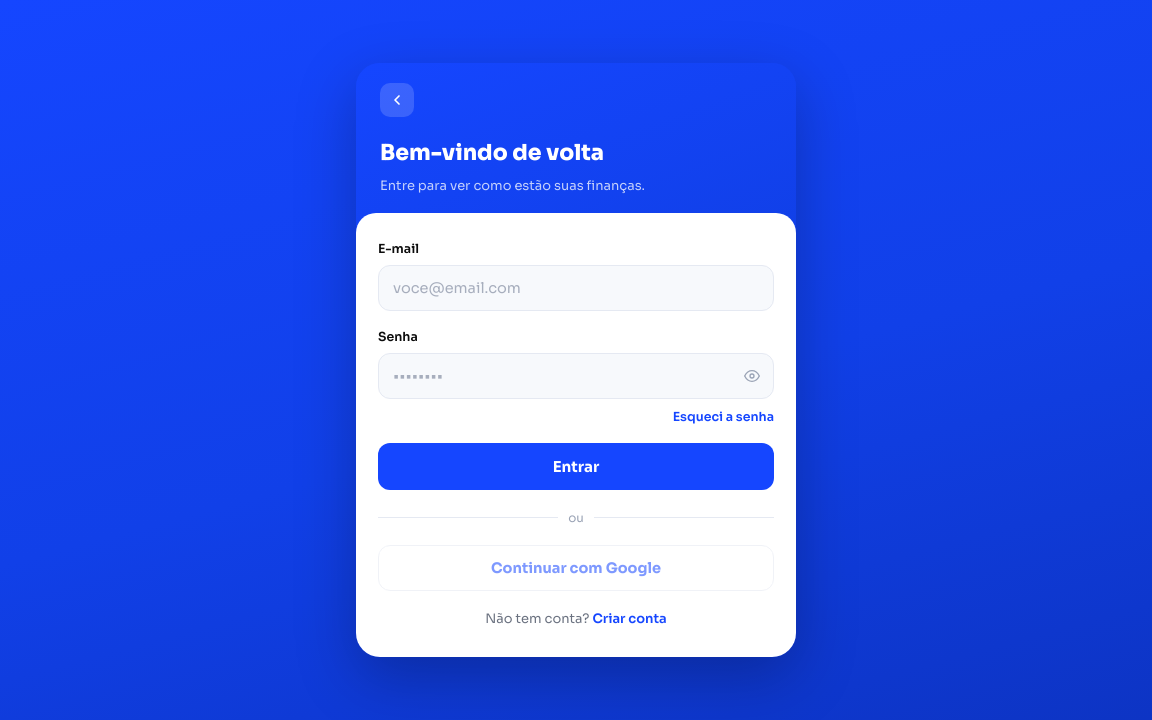
Scenario: Login — modo entrar › mostra erro de e-mail inválido
Step 1. Type "invalido" into the field labelled "E-mail" → (576, 288), box top-left (378, 264), bottom-right (774, 310)
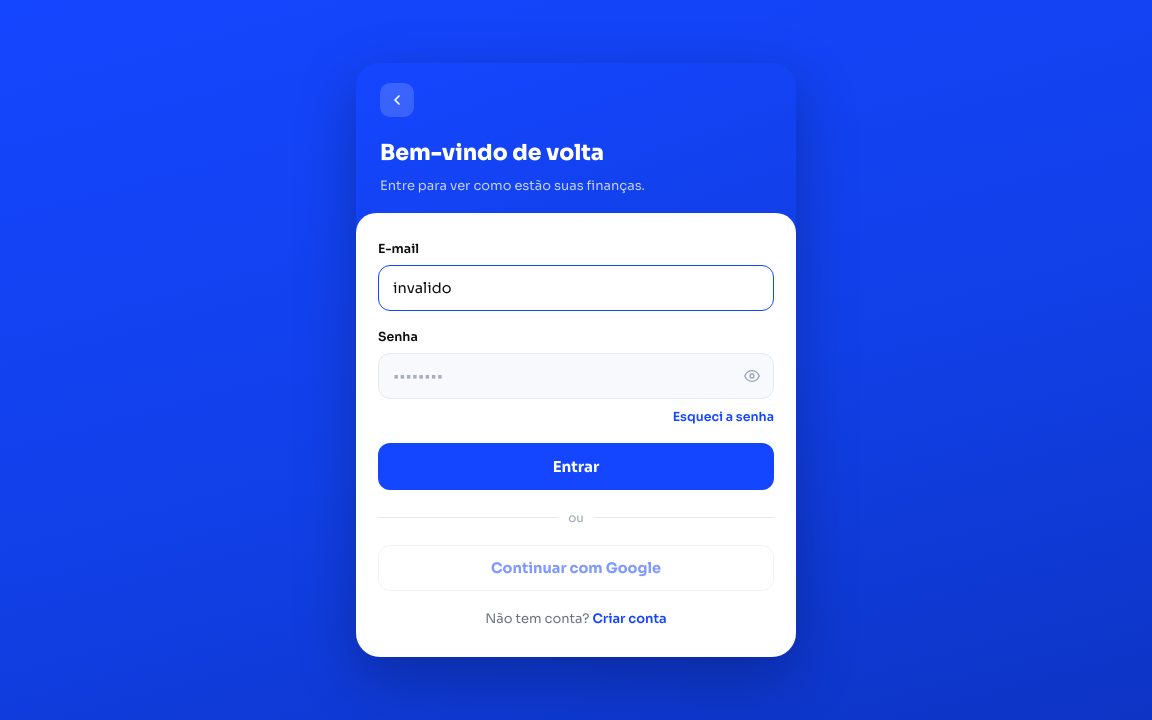
Step 2. Type "Senha123" into the password field labelled "Senha" → (576, 376), box top-left (378, 352), bottom-right (774, 398)
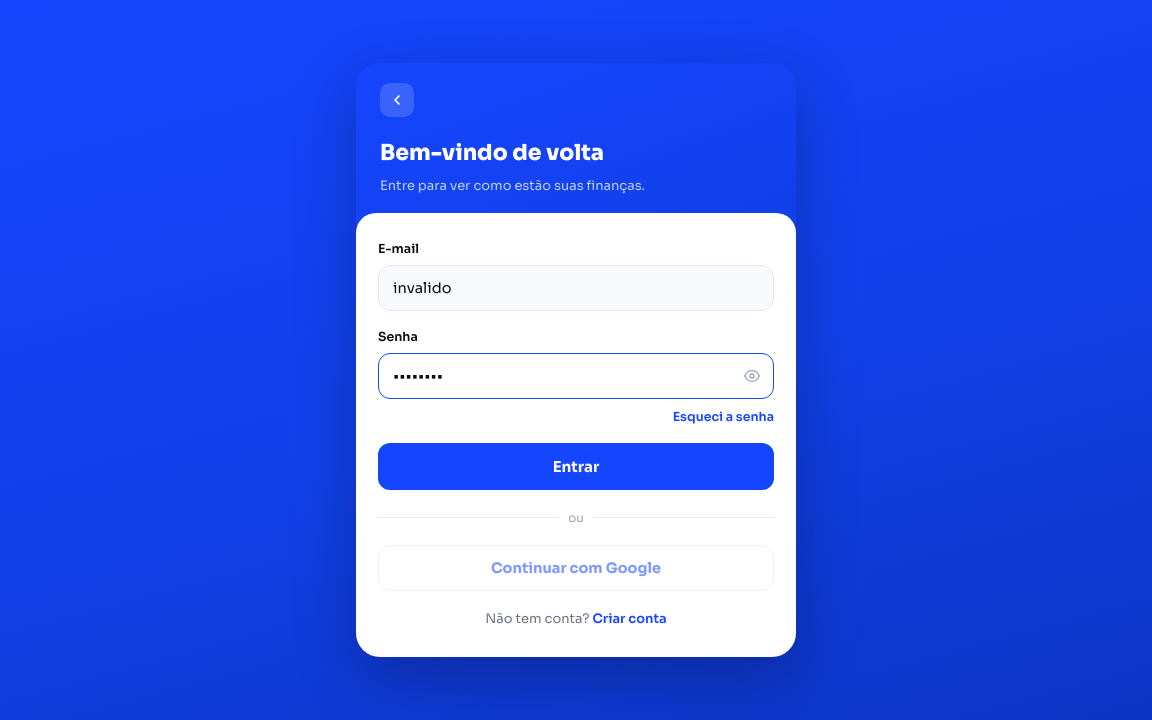
Step 3. Click the button "Entrar" → (576, 466), box top-left (378, 442), bottom-right (774, 490)
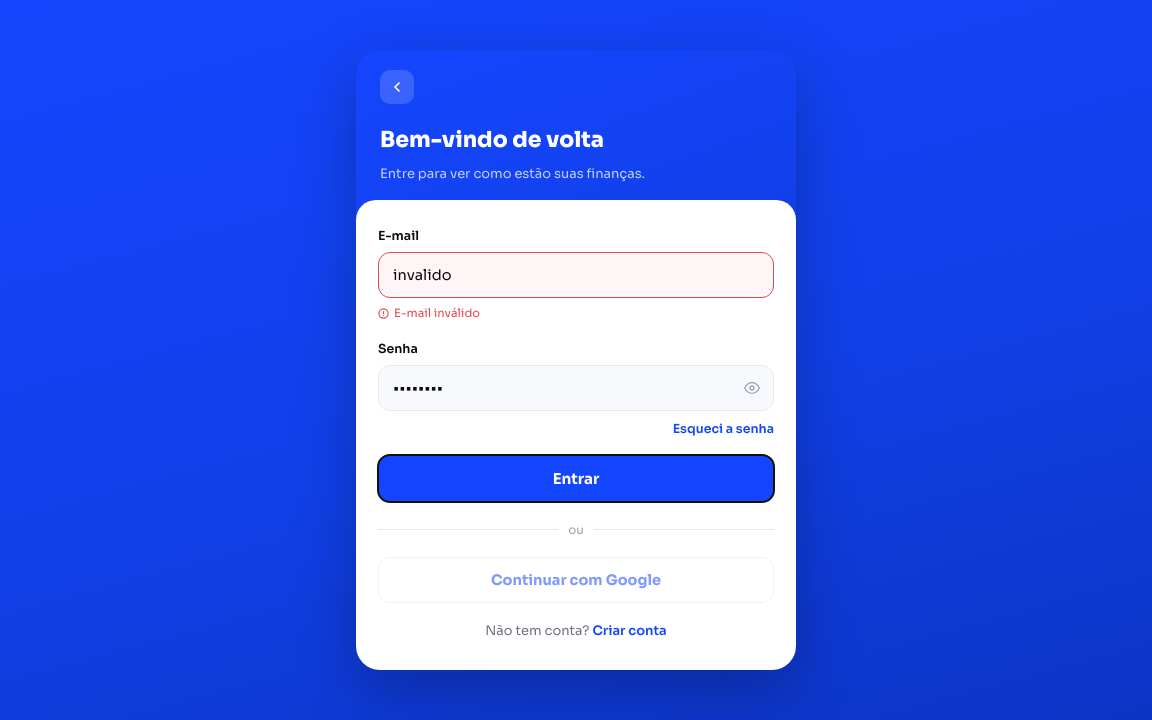
Check: the text "E-mail inválido" is shown, box top-left (378, 306), bottom-right (480, 320)
